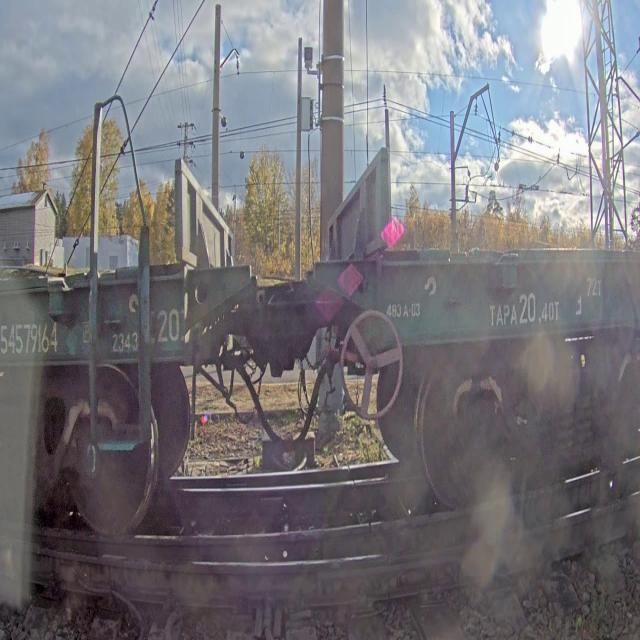flatcar: (290, 142, 640, 520), (0, 151, 258, 551)
